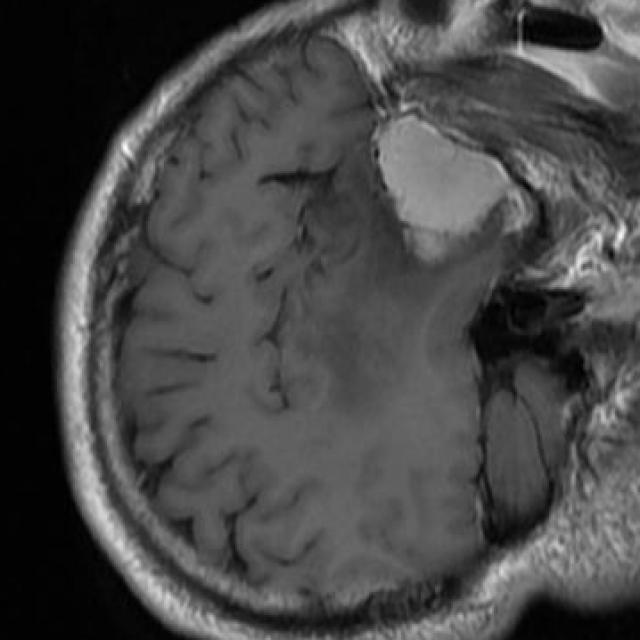meningioma: (378, 118, 531, 258)
